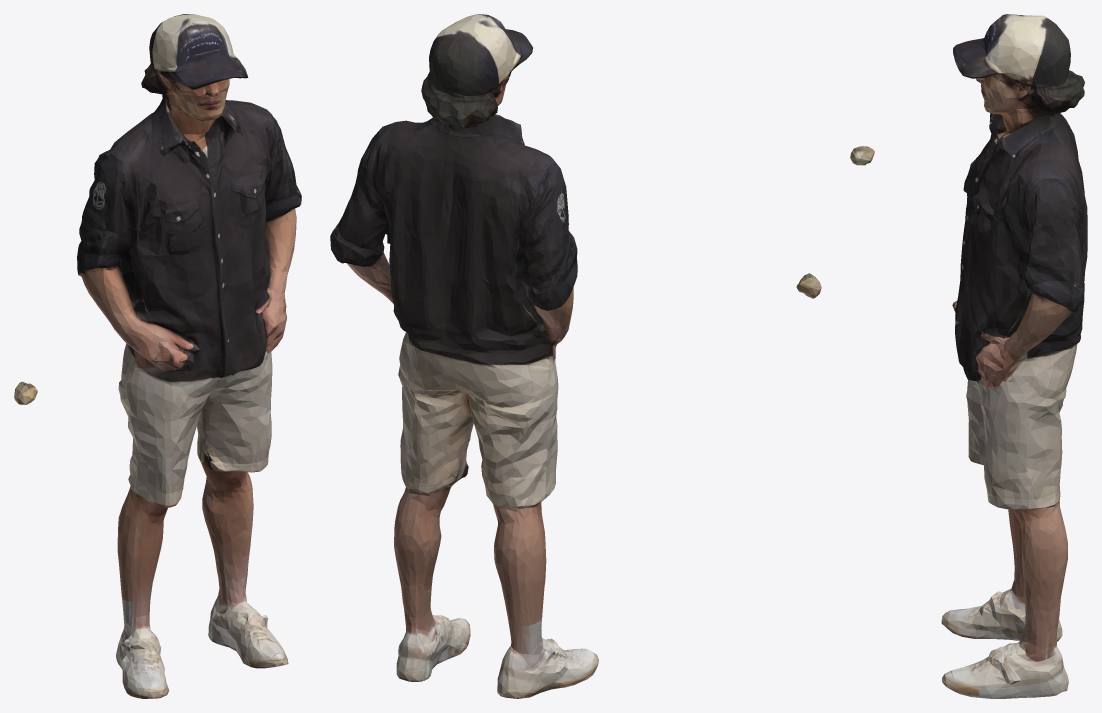
The model's file is Jeff_0619052437_texture.fbx.
3 renders of one model, left to right at view 1: azimuth 30°, elevation 25°; view 2: azimuth 150°, elevation 25°; view 3: azimuth 270°, elevation 25°, orthographic. The views are drawn at different scales.
Visible parts, largest first — view 1: temp; view 2: temp; view 3: temp.
Part boxes in pixels (left/top/right/bottom): temp: left=14, top=14, right=301, bottom=698; temp: left=330, top=14, right=821, bottom=698; temp: left=850, top=14, right=1087, bottom=698.
Bounding box in the file's own units: 123 × 200 × 66.3.
1 material, 1 textured.
